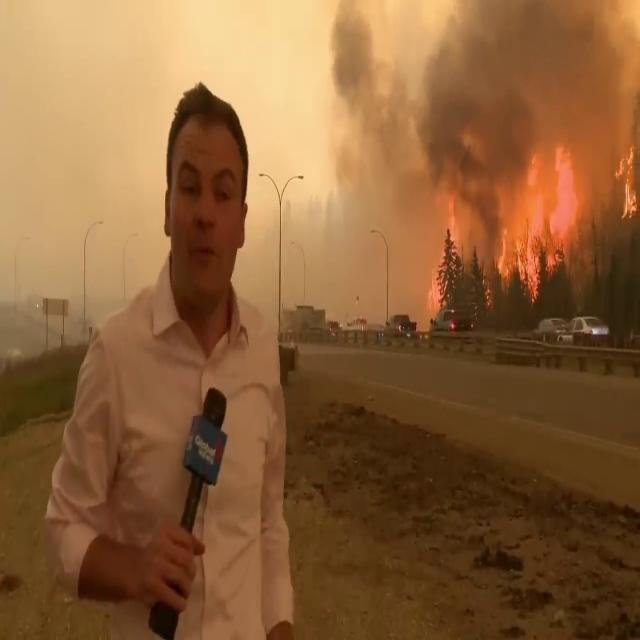Fire: (498, 142, 578, 300), (431, 194, 464, 313), (616, 136, 640, 224), (616, 137, 638, 215)
Smoke: (319, 1, 640, 264)
